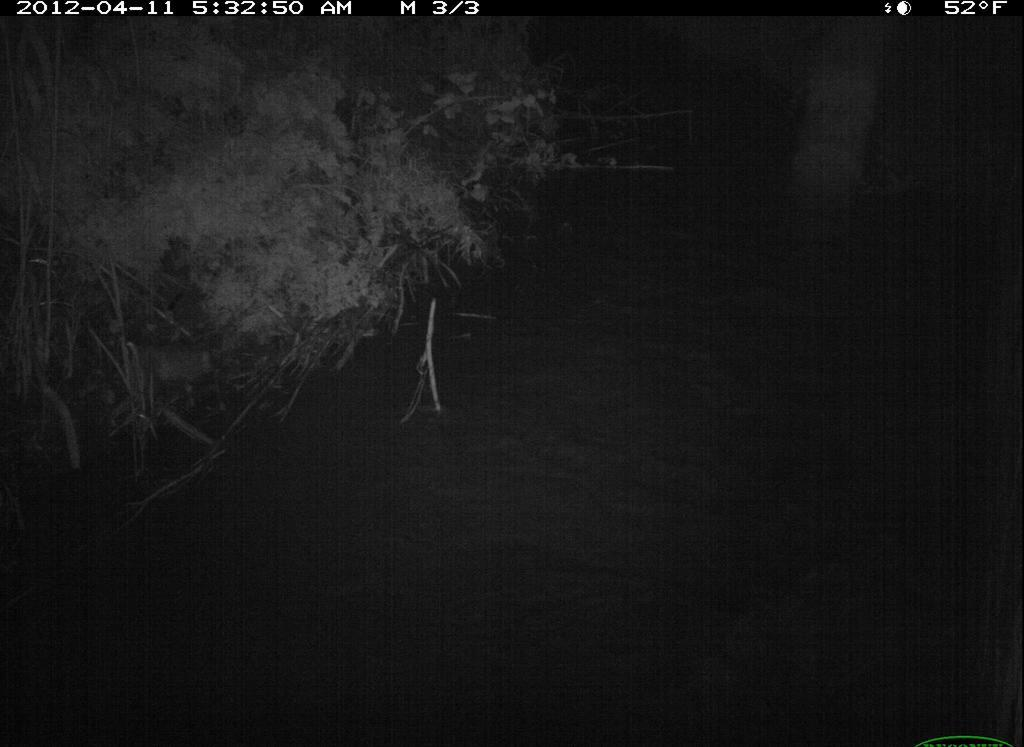opossum: (102, 329, 221, 427)
